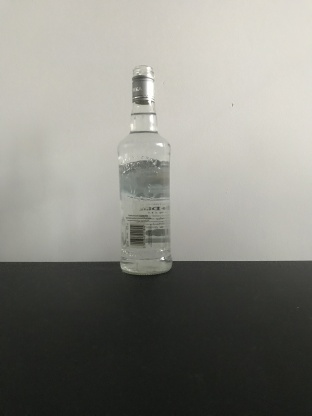nakretka: (130, 64, 156, 105)
